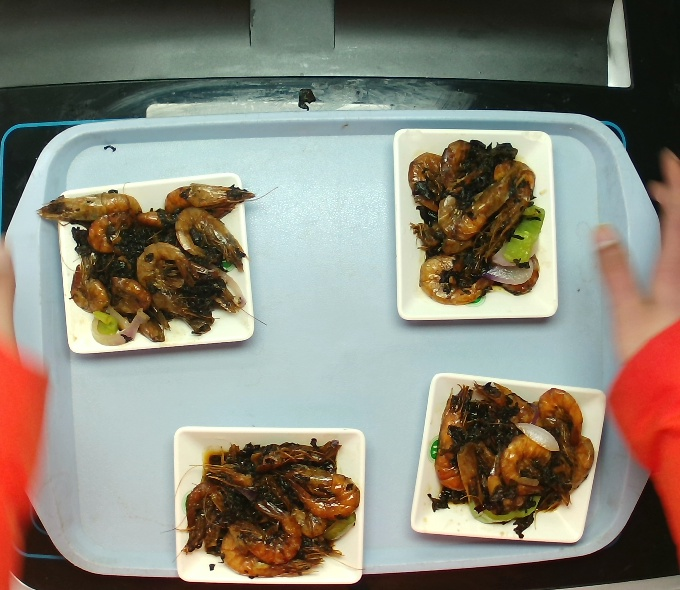wcq-GanCaiXia: (47, 180, 254, 347), (426, 378, 590, 535), (403, 134, 548, 309), (185, 432, 354, 578)
